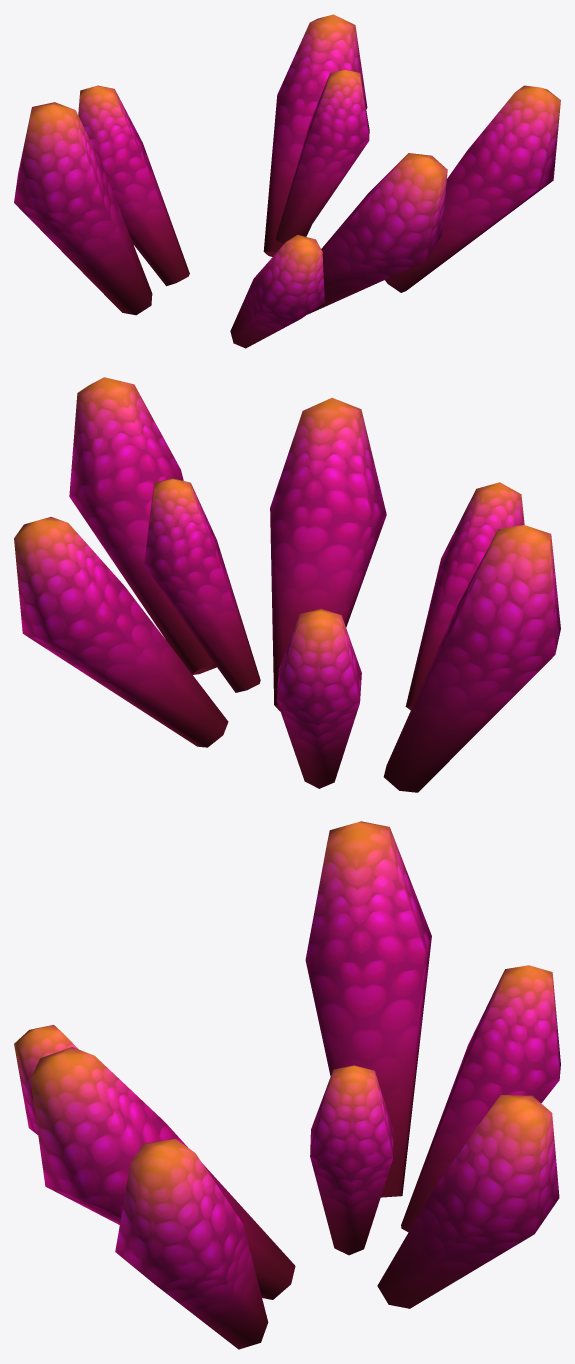
Rendered from Coral_11b.FBX.
3 renders of one model, top to bottom at view 1: azimuth 30°, elevation 25°; view 2: azimuth 150°, elevation 25°; view 3: azimuth 270°, elevation 25°, orthographic. The views are drawn at different scales.
Visible parts, largest first — view 1: Coral_11b; view 2: Coral_11b; view 3: Coral_11b.
Part boxes in pixels (x1,y1,x2,y2): Coral_11b: (14, 14, 560, 348); Coral_11b: (14, 377, 560, 792); Coral_11b: (14, 821, 560, 1349).
Bounding box in the file's own units: 46.71 × 22.68 × 34.38.
